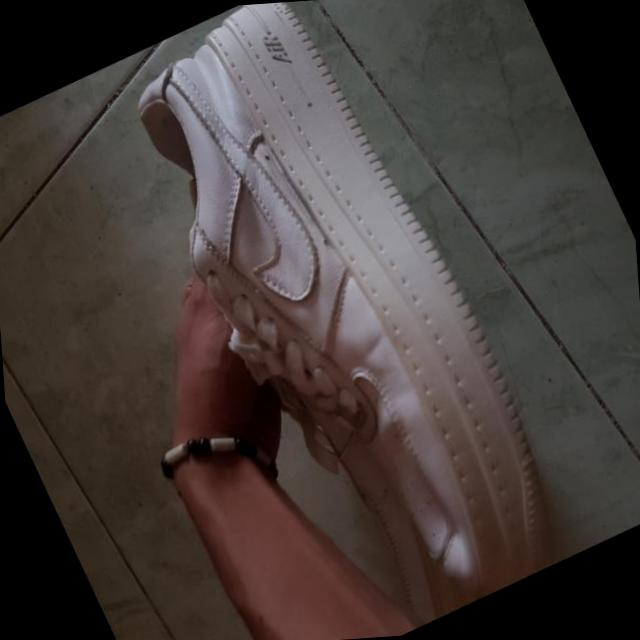nike_fake_airforce: (50, 0, 543, 640)
